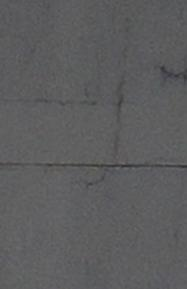fissura: (9, 86, 136, 120)
